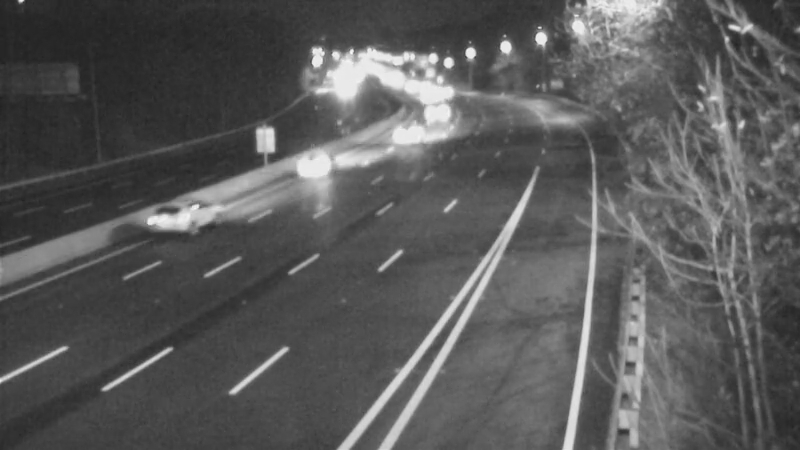vehicle: (276, 118, 356, 198), (121, 178, 201, 258), (409, 84, 459, 134), (384, 101, 434, 151)
